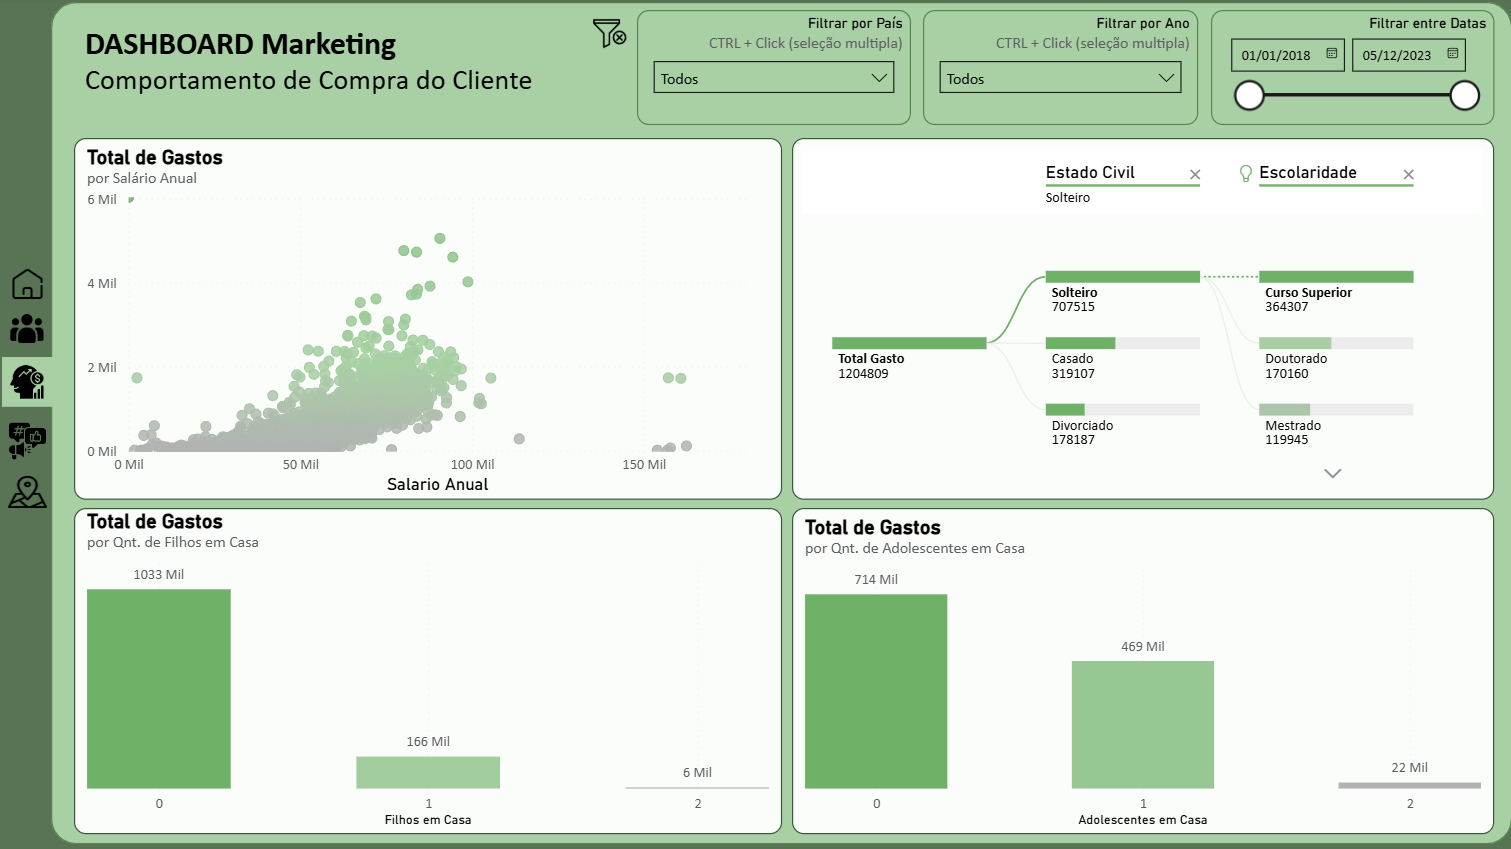

The dashboard page shown, as its layout file describes it:
{"tool":"powerbi","page":{"name":"Visão Comportamento","canvas":[1280,720],"ordinal":2},"visuals":[{"type":"group","id":"g1","title":"Grupo 1","box":[48.2,4.5,1231.8,710],"z":0},{"type":"shape","box":[48.2,4.5,1231.8,710],"z":0,"group":"g1"},{"type":"textbox","box":[71.7,17.6,390,73.6],"z":1000,"group":"g1"},{"type":"scatterChart","title":"Total de Gastos","fields":{"X":["Dados_Marketing.Salario Anual"],"Y":["Dados_Marketing.Total_Gasto"]},"box":[67.3,119.1,597.3,305.5],"z":1000},{"type":"slicer","title":"Filtrar por Ano","fields":{"Values":["Dados_Marketing.Data Cadastro.Variation.Hierarquia de datas.Ano"]},"box":[783.7,10.9,231.8,97.3],"z":2000,"group":"g1"},{"type":"clusteredColumnChart","title":"Total de Gastos","fields":{"Category":["Dados_Marketing.Filhos em Casa"],"Y":["Dados_Marketing.Total_Gasto"]},"box":[67.3,430.9,597.3,274.5],"z":2000},{"type":"slicer","title":"Filtrar por País","fields":{"Values":["Dados_Marketing.Pais"]},"box":[541.8,10.9,230.9,97.3],"z":3000,"group":"g1"},{"type":"image","box":[7,398.9,42.7,37.3],"z":3000,"group":"g3"},{"type":"clusteredColumnChart","title":"Total de Gastos","fields":{"Y":["Dados_Marketing.Total_Gasto"],"Category":["Dados_Marketing.Adolescentes em Casa"]},"box":[672.7,430.9,591.8,274.5],"z":3000},{"type":"slicer","title":"Filtrar entre Datas","fields":{"Values":["Dados_Marketing.Data Cadastro"]},"box":[1026.4,10.9,239.1,97.3],"z":4000,"group":"g1"},{"type":"decompositionTreeVisual","fields":{"Analyze":["Dados_Marketing.Total_Gasto"],"ExplainBy":["Dados_Marketing.Estado Civil","Dados_Marketing.Escolaridade"]},"box":[672.7,119.1,591.8,305.5],"z":4000},{"type":"image","box":[7,260.7,42.7,38.2],"z":4000,"group":"g3"},{"type":"group","id":"g2","title":"Grupo 5","box":[7,223.6,42.7,212.7],"z":5000},{"type":"group","id":"g3","title":"Grupo 2","box":[7,260.7,42.7,175.5],"z":5000,"group":"g2"},{"type":"image","box":[7,303.4,42.7,41.8],"z":5000,"group":"g3"},{"type":"image","box":[498.9,11.9,39.8,37.8],"z":6000},{"type":"image","box":[7,223.6,42.6,37.2],"z":6000,"group":"g2"},{"type":"image","box":[7,349.8,42.7,48.2],"z":6000,"group":"g3"}]}

Visuals, with their boxes on the page's 1280x720 design canvas (x1, y1, x2, y2). These are canvas units, not pixel positions in the 1511x849 screenshot, which may show the page scaled, cropped or inside an application window:
"Grupo 1" group: (x1=48, y1=4, x2=1280, y2=714)
shape: (x1=48, y1=4, x2=1280, y2=714)
textbox: (x1=72, y1=18, x2=462, y2=91)
"Total de Gastos" scatterChart: (x1=67, y1=119, x2=665, y2=425)
"Filtrar por Ano" slicer: (x1=784, y1=11, x2=1016, y2=108)
"Total de Gastos" clusteredColumnChart: (x1=67, y1=431, x2=665, y2=705)
"Filtrar por País" slicer: (x1=542, y1=11, x2=773, y2=108)
image: (x1=7, y1=399, x2=50, y2=436)
"Total de Gastos" clusteredColumnChart: (x1=673, y1=431, x2=1264, y2=705)
"Filtrar entre Datas" slicer: (x1=1026, y1=11, x2=1266, y2=108)
decompositionTreeVisual - Dados_Marketing.Total_Gasto x Dados_Marketing.Estado Civil: (x1=673, y1=119, x2=1264, y2=425)
image: (x1=7, y1=261, x2=50, y2=299)
"Grupo 5" group: (x1=7, y1=224, x2=50, y2=436)
"Grupo 2" group: (x1=7, y1=261, x2=50, y2=436)
image: (x1=7, y1=303, x2=50, y2=345)
image: (x1=499, y1=12, x2=539, y2=50)
image: (x1=7, y1=224, x2=50, y2=261)
image: (x1=7, y1=350, x2=50, y2=398)
